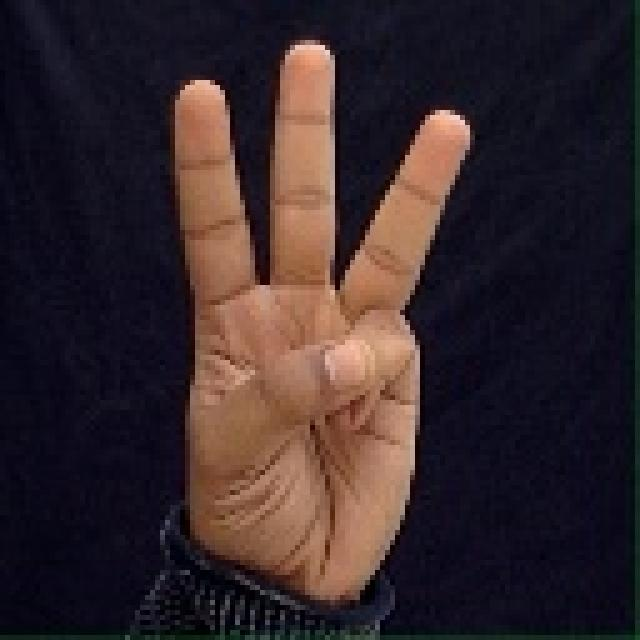Numeric-3: (168, 31, 470, 614)
